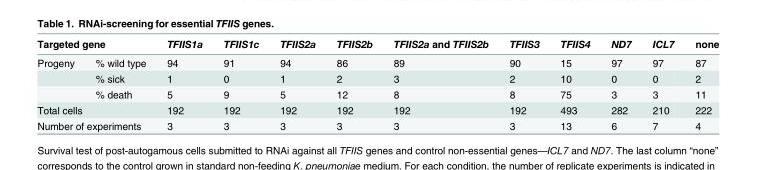table: (36, 37, 718, 131)
table column: (382, 37, 498, 131), (84, 37, 155, 131), (155, 37, 212, 131), (268, 37, 325, 131), (325, 37, 382, 131), (212, 37, 268, 131), (498, 37, 549, 131), (549, 37, 599, 131), (36, 37, 84, 131), (599, 37, 641, 131), (641, 37, 683, 131), (683, 37, 718, 131)
table column header: (36, 37, 718, 70)
table row: (36, 53, 718, 70), (36, 37, 718, 53), (36, 85, 718, 101), (36, 101, 718, 117), (36, 70, 718, 85), (36, 117, 718, 131)
table spanning cell: (382, 37, 498, 70), (36, 37, 155, 53), (36, 101, 155, 117), (155, 37, 212, 70), (268, 37, 325, 70), (325, 37, 382, 70), (212, 37, 268, 70), (498, 37, 549, 70), (36, 117, 155, 131), (549, 37, 599, 70), (599, 37, 641, 70), (641, 37, 683, 70), (683, 37, 718, 70)
